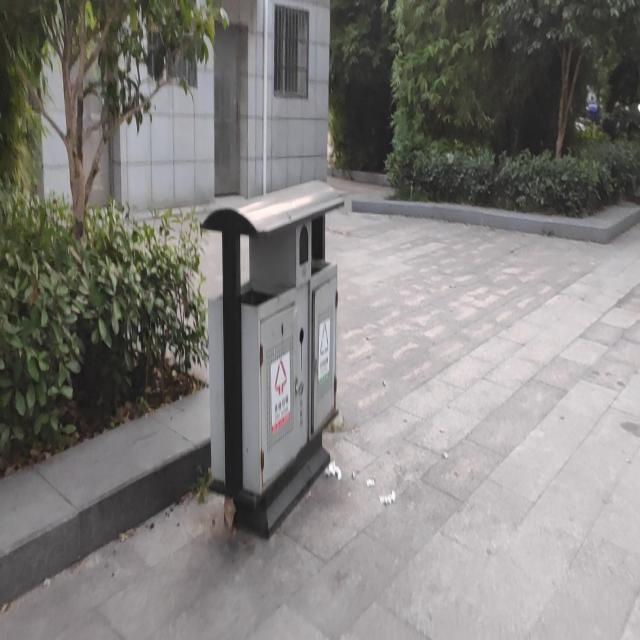ash bin: (200, 177, 344, 542)
